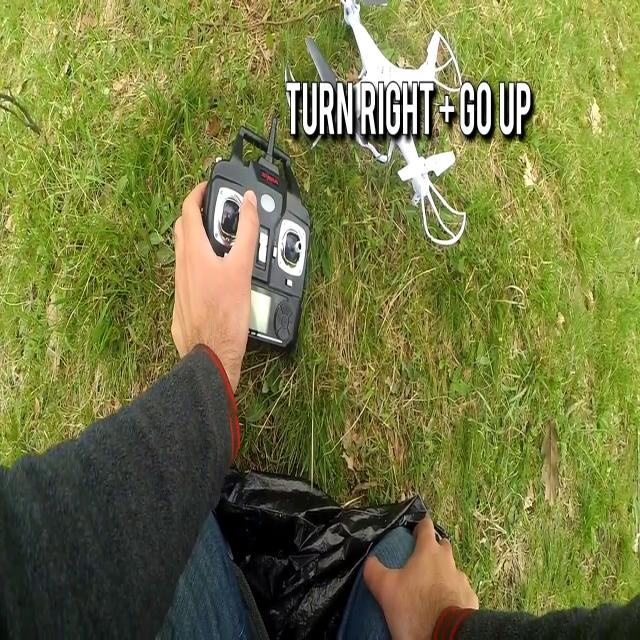drones: (333, 0, 467, 267)
